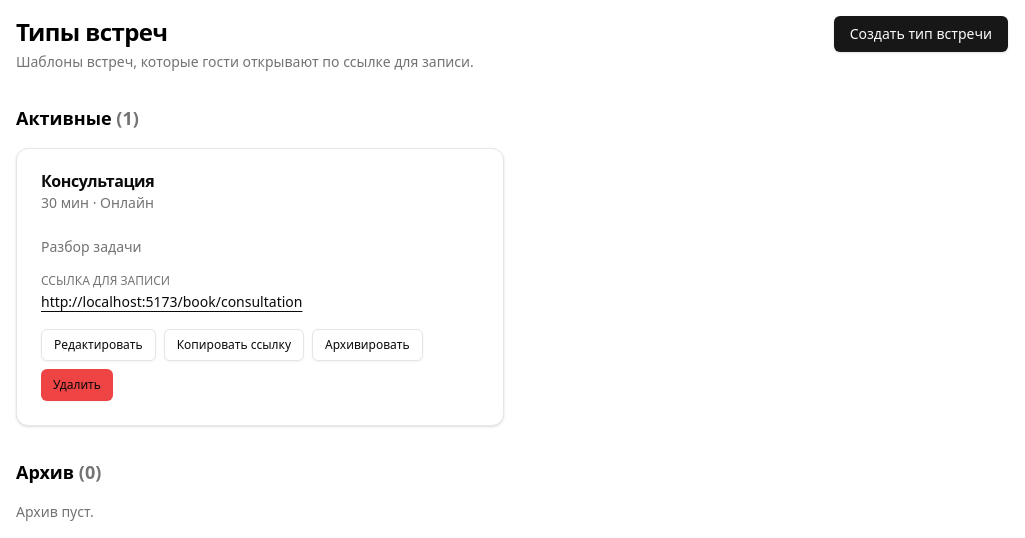
Test: MeetingTypeListPage › archives an active meeting type in place
Check: the link "Консультация" is shown, box [41,170,154,192]
Click the button "Архивировать": coordinates (367, 345) [312,329,423,361]
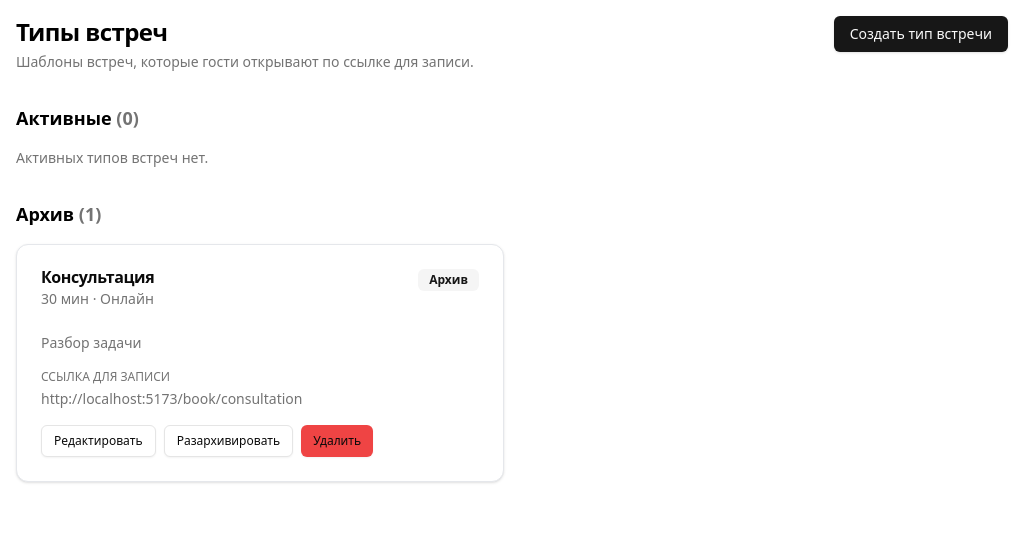
Check: the number of headings "Архив (1)" is 2, box [16,202,101,226]; [418,269,479,291]
Check: the button "Разархивировать" is shown, box [164,425,293,457]
